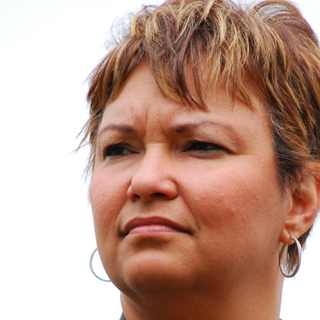eye: (175, 135, 232, 160), (100, 136, 142, 163)
